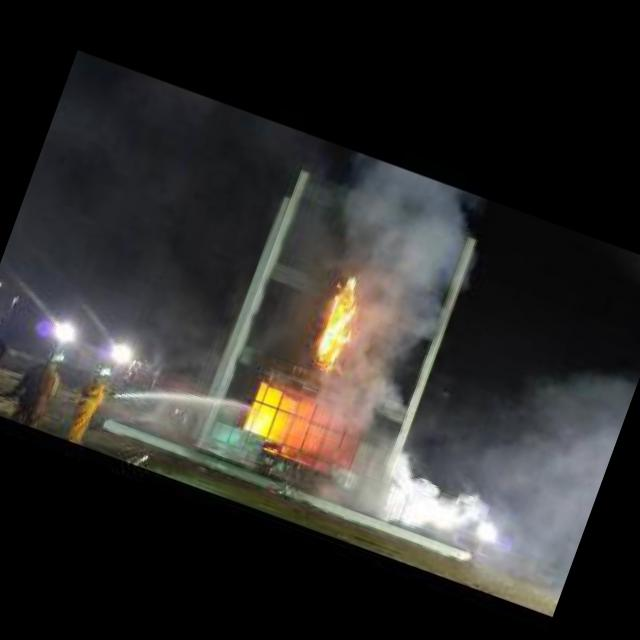fire: (306, 257, 381, 376), (234, 373, 307, 453)
smoke: (306, 424, 504, 559), (322, 150, 494, 298), (324, 270, 451, 440)
